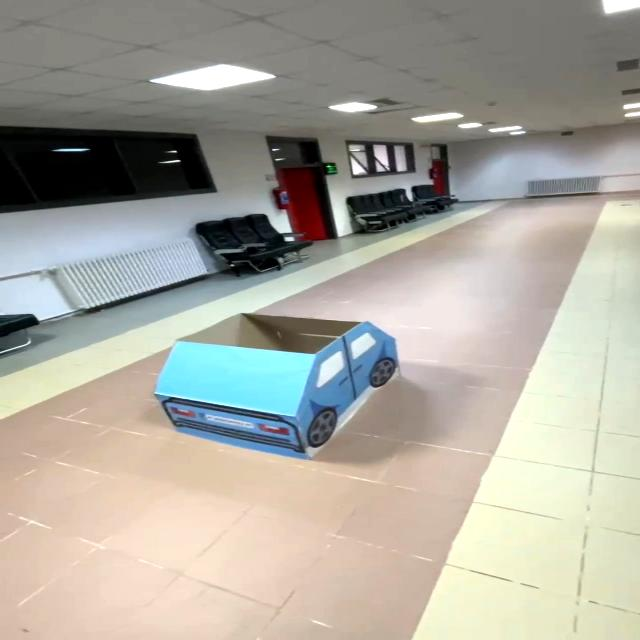blue_car: (139, 293, 424, 485)
